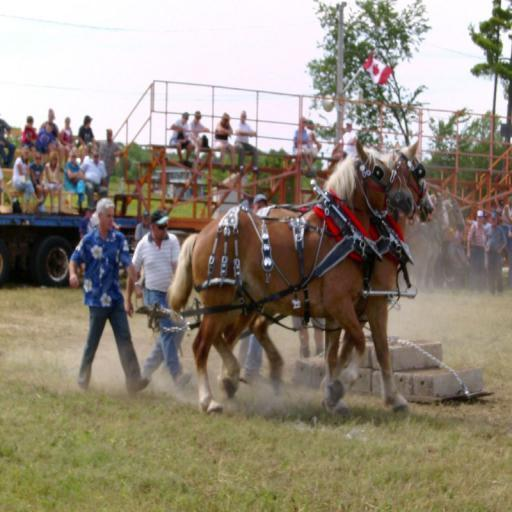horse: (168, 138, 415, 418), (215, 138, 437, 424)
